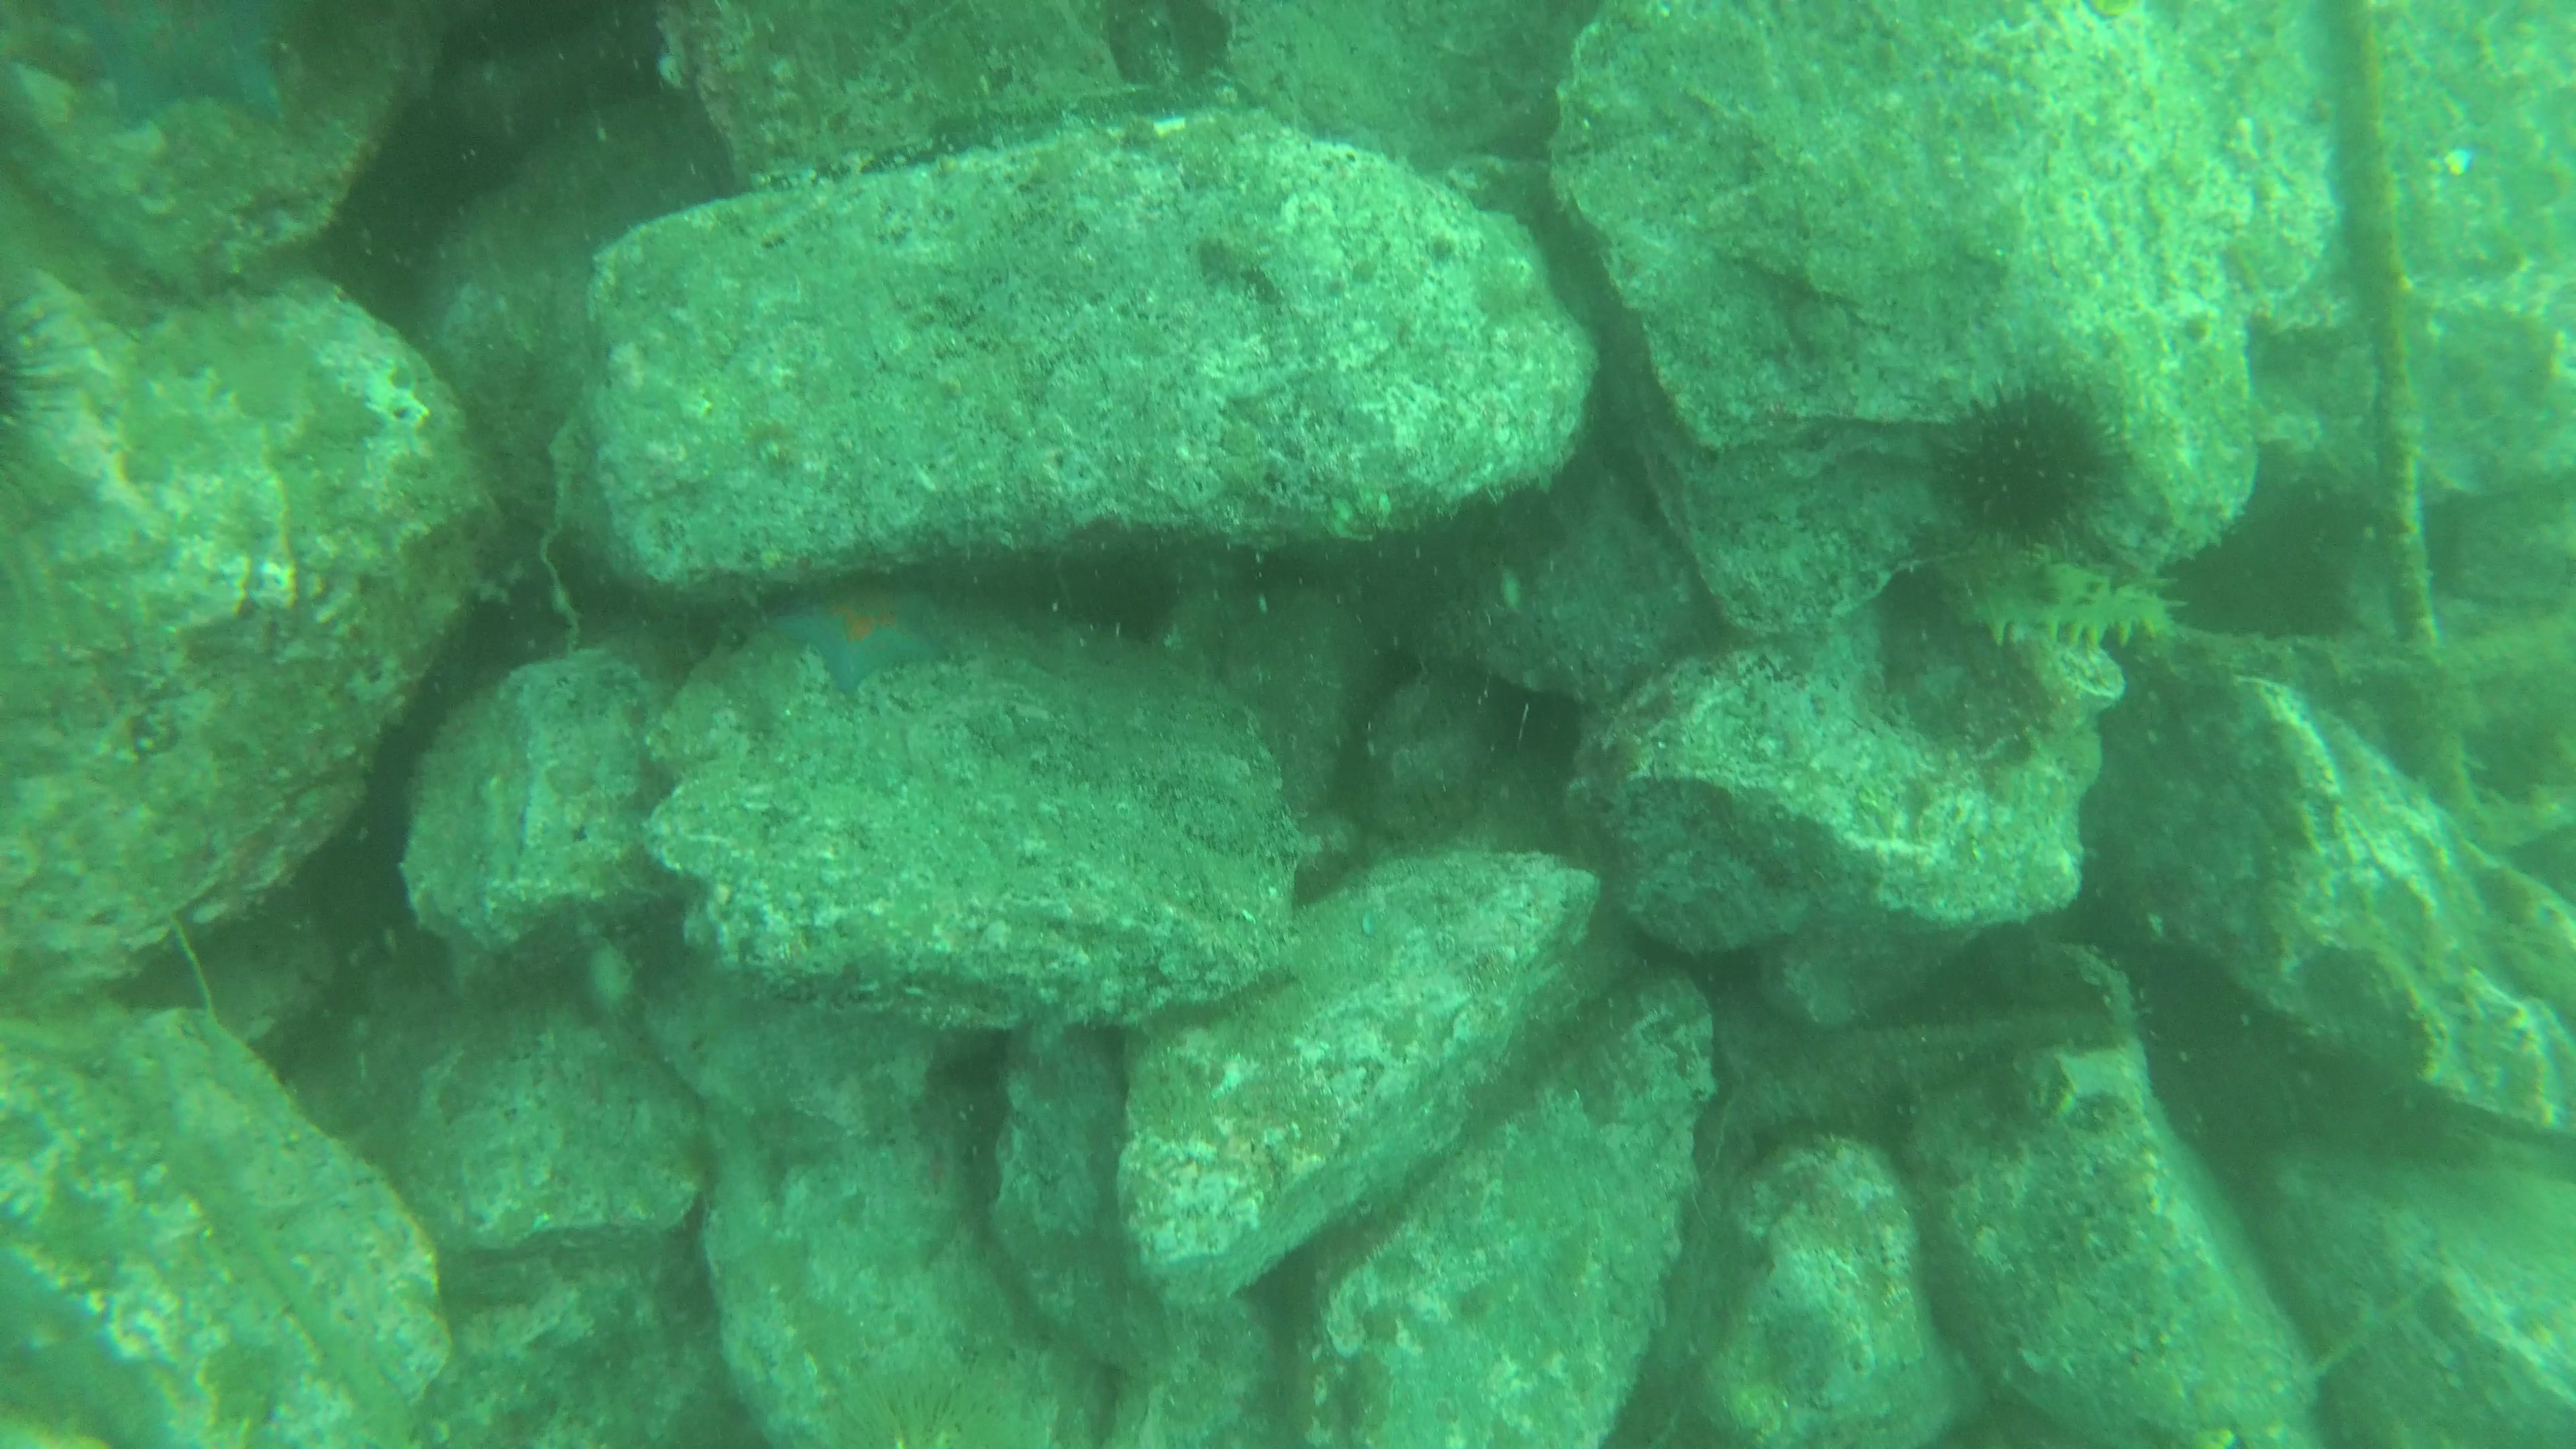echinus: (1951, 372, 2130, 545), (2190, 511, 2362, 648), (786, 1384, 1019, 1449), (0, 280, 76, 439)
holothurian: (1948, 557, 2180, 658)
starfish: (755, 609, 961, 695)
